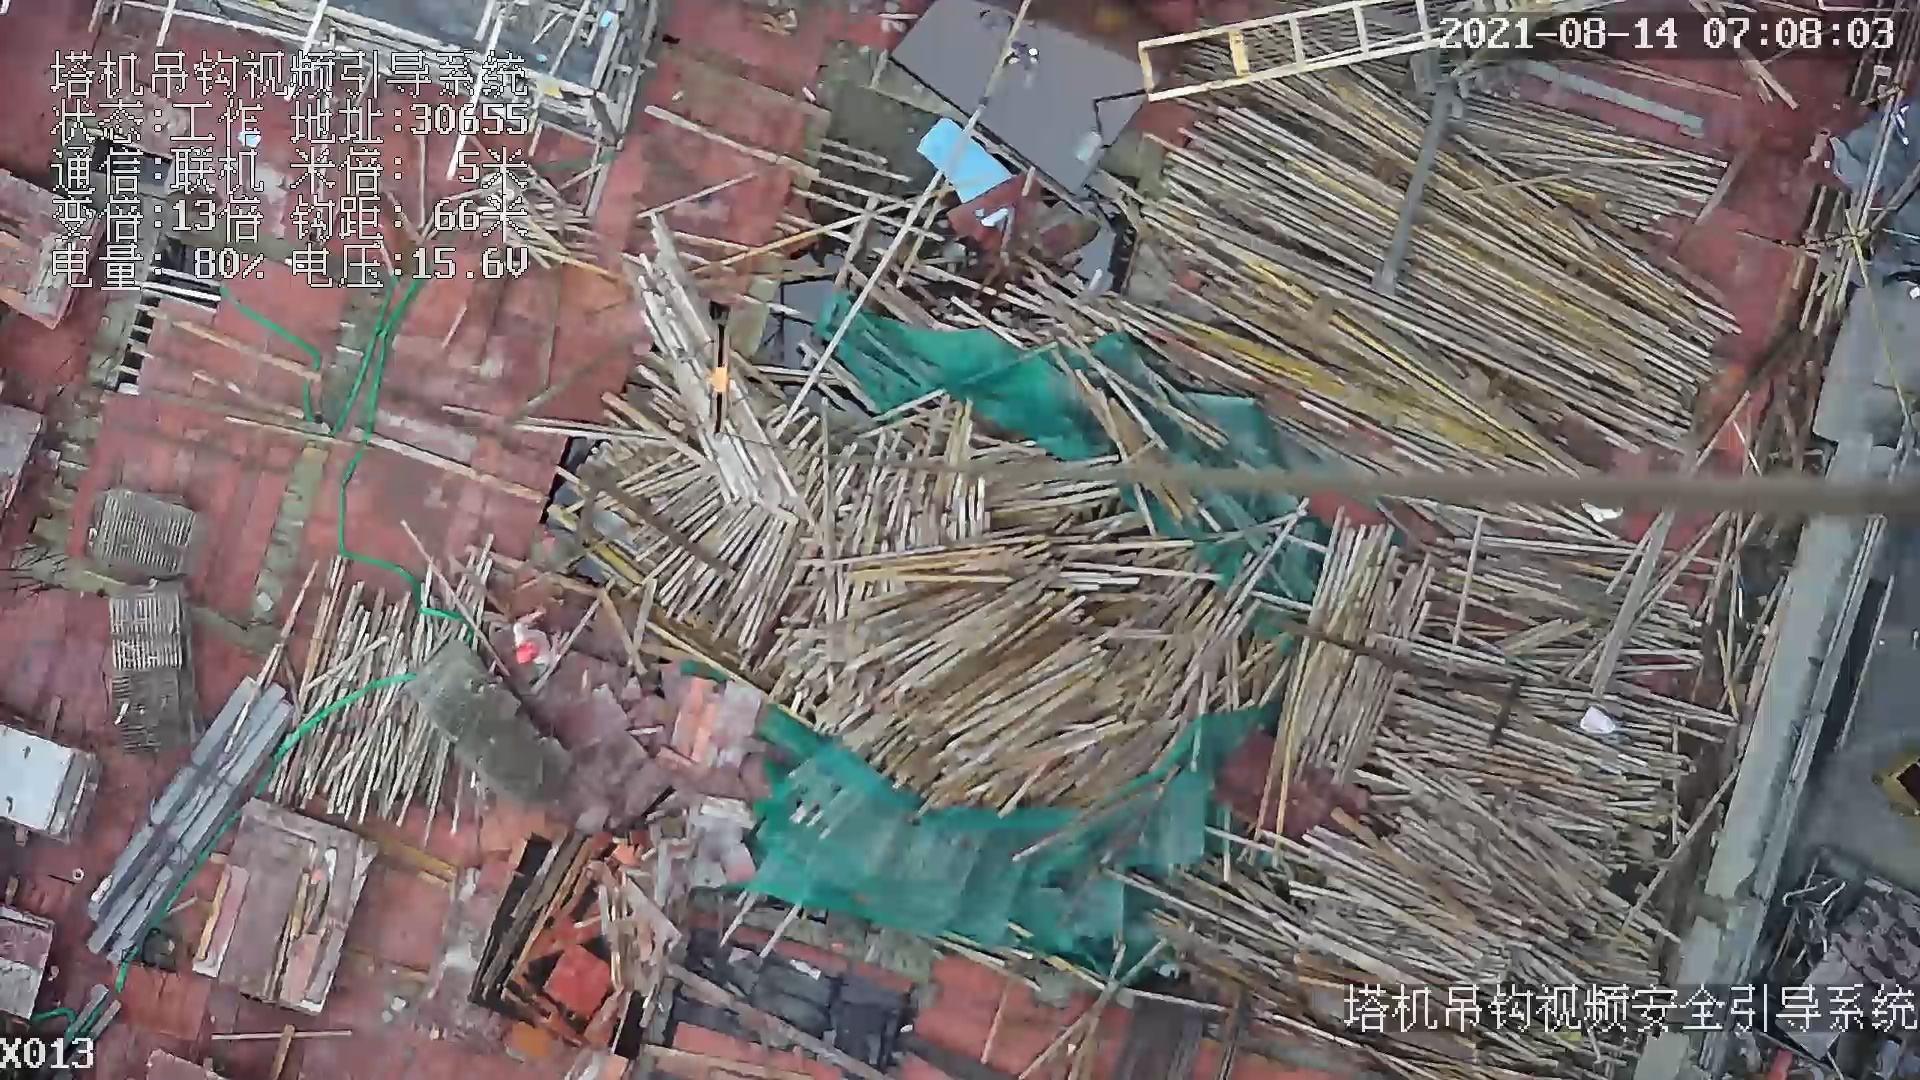helmet: (511, 640, 539, 663)
hook: (703, 317, 736, 440)
person: (510, 613, 562, 663)
